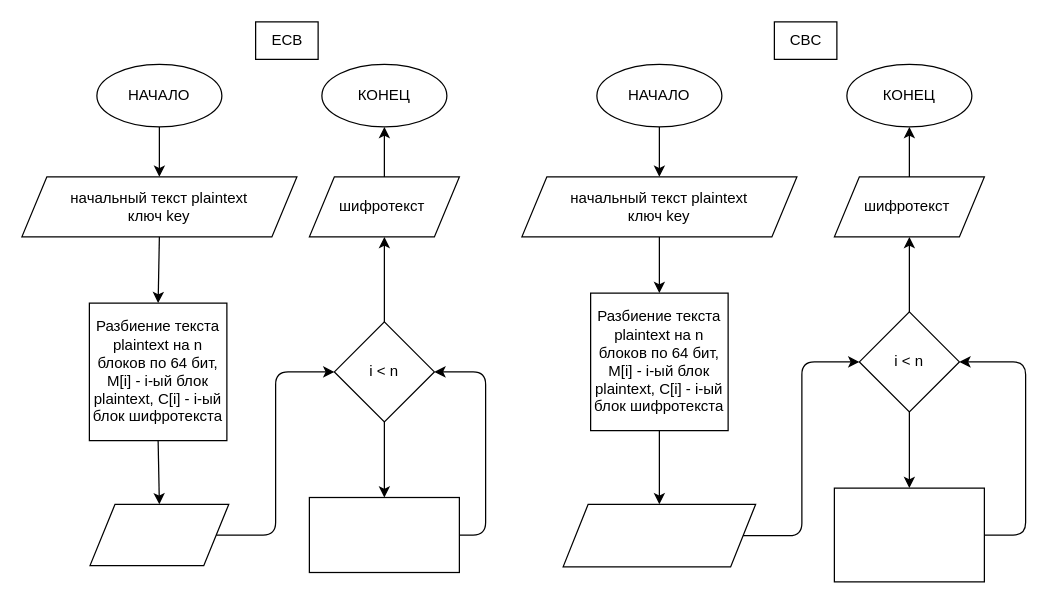
Image size: 1058x604. Some labels were removed from this diagram. The box of each missing label's shape, as (x1, y1, x2, y2) in pixels:
A = M[i] xor V C[i] = DES(А, K) V = C[i] i++: (833, 487, 984, 582)
C[i] = DES(M[i], K) i++: (308, 496, 459, 572)
i = 0: (89, 503, 229, 566)
i = 0 V = начальный вектор: (562, 503, 756, 567)
